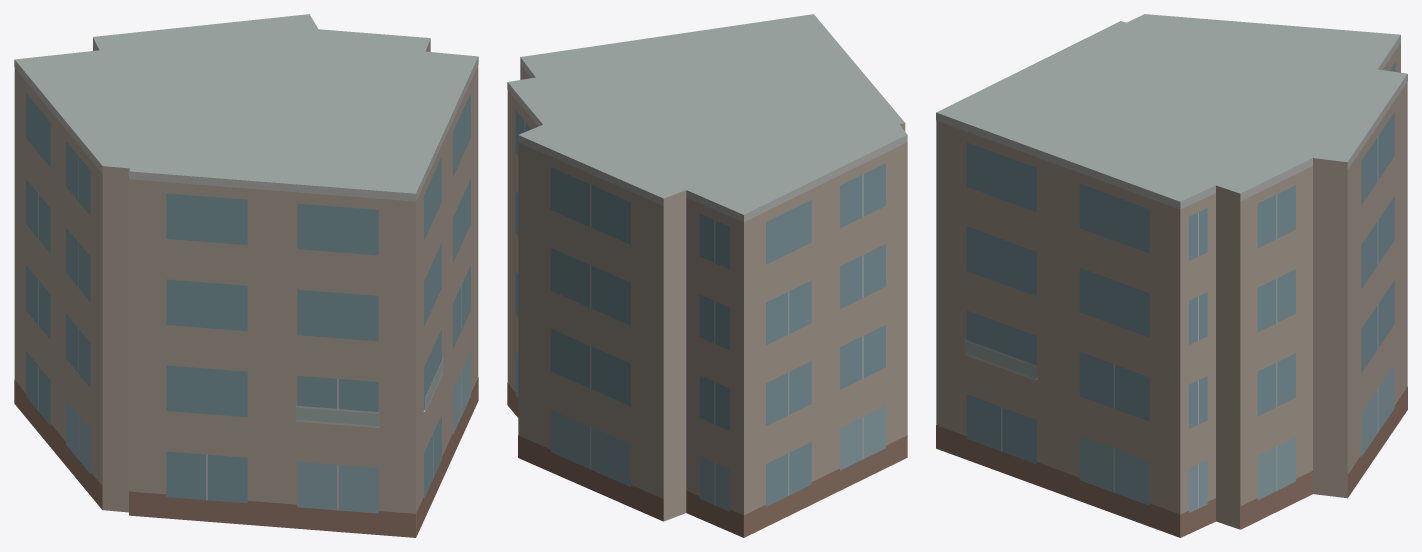
File: survey-upis-33000270.glb
3 views of the same model, side by side, from view 1: azimuth 30°, elevation 25°; view 2: azimuth 150°, elevation 25°; view 3: azimuth 270°, elevation 25° (orthographic). The views are drawn at different scales.
Visible parts, largest first — view 1: survey-upis-33000270.tmp; view 2: survey-upis-33000270.tmp; view 3: survey-upis-33000270.tmp.
Boxes of the visible parts, bbox=[...] form: survey-upis-33000270.tmp: bbox=[14, 14, 478, 537]; survey-upis-33000270.tmp: bbox=[507, 14, 907, 537]; survey-upis-33000270.tmp: bbox=[936, 14, 1407, 537].
Size of the model in its own units: 12.71 by 10.6 by 13.49.
